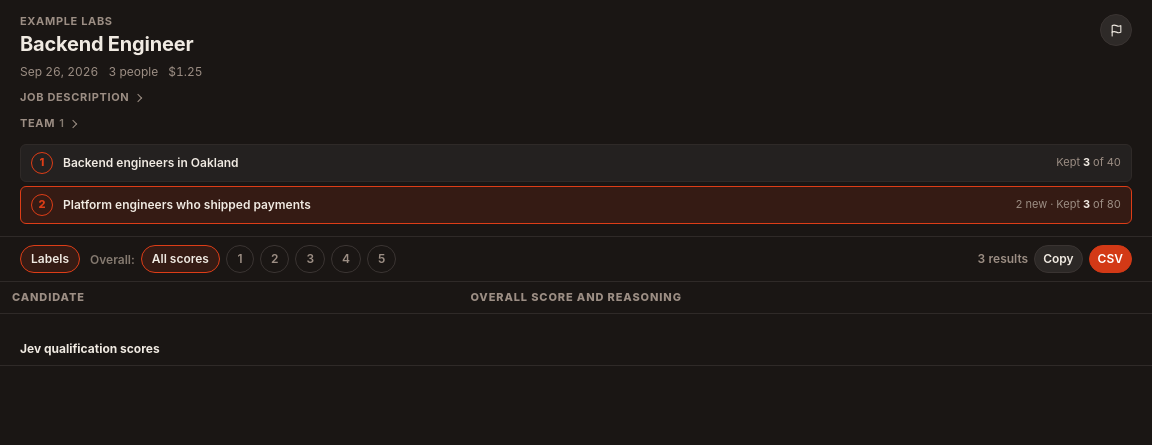
it: RunView › folds the job description open under the header
This screenshot has width=1152, height=445.
Click the button "Kept" at (187, 205), box [20, 186, 1132, 224]
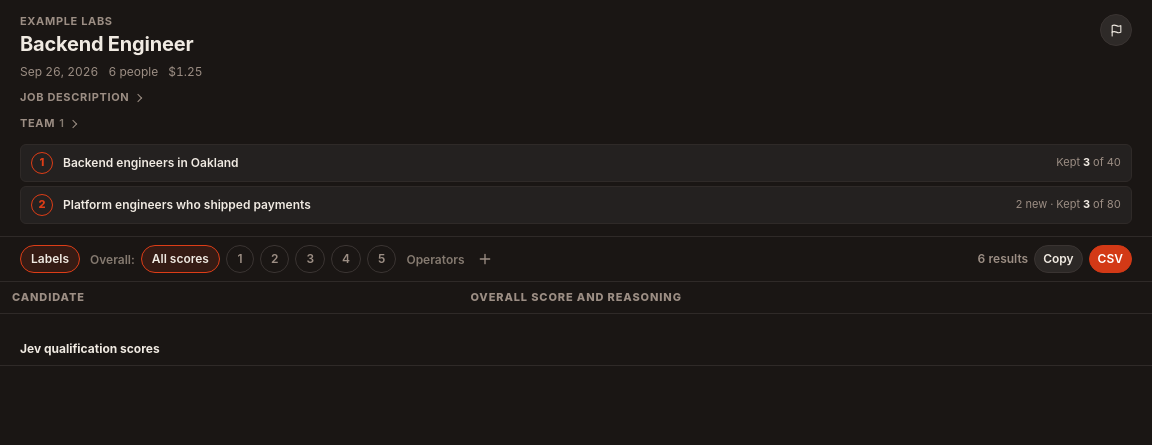
Click the button "Job description" at (75, 97), box [20, 90, 1084, 106]
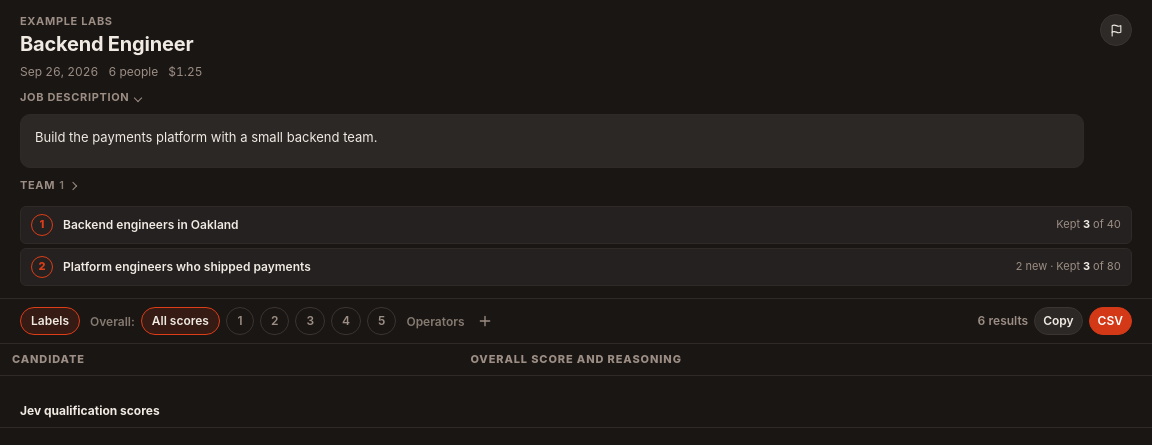
Expected: the text "Build the payments platform with a small backend team." is shown, [35, 129, 377, 145]
Expected: the button "Job description" is expanded, [20, 90, 1084, 106]
